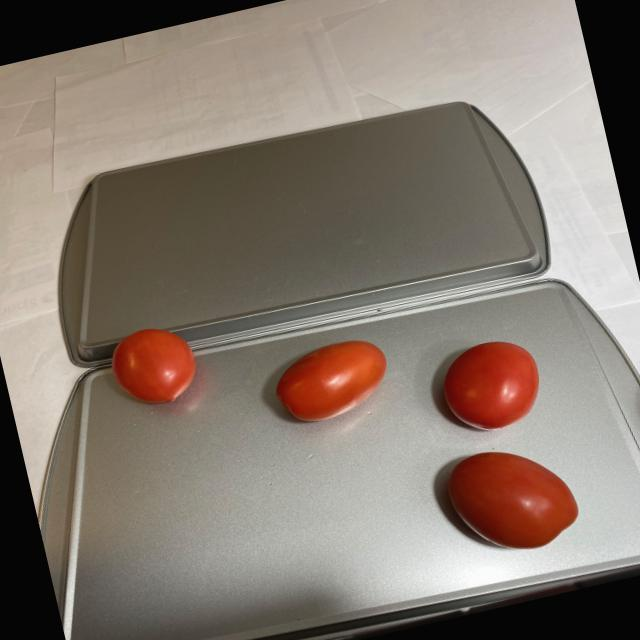tomato: (270, 296, 592, 598), (108, 320, 210, 416)
